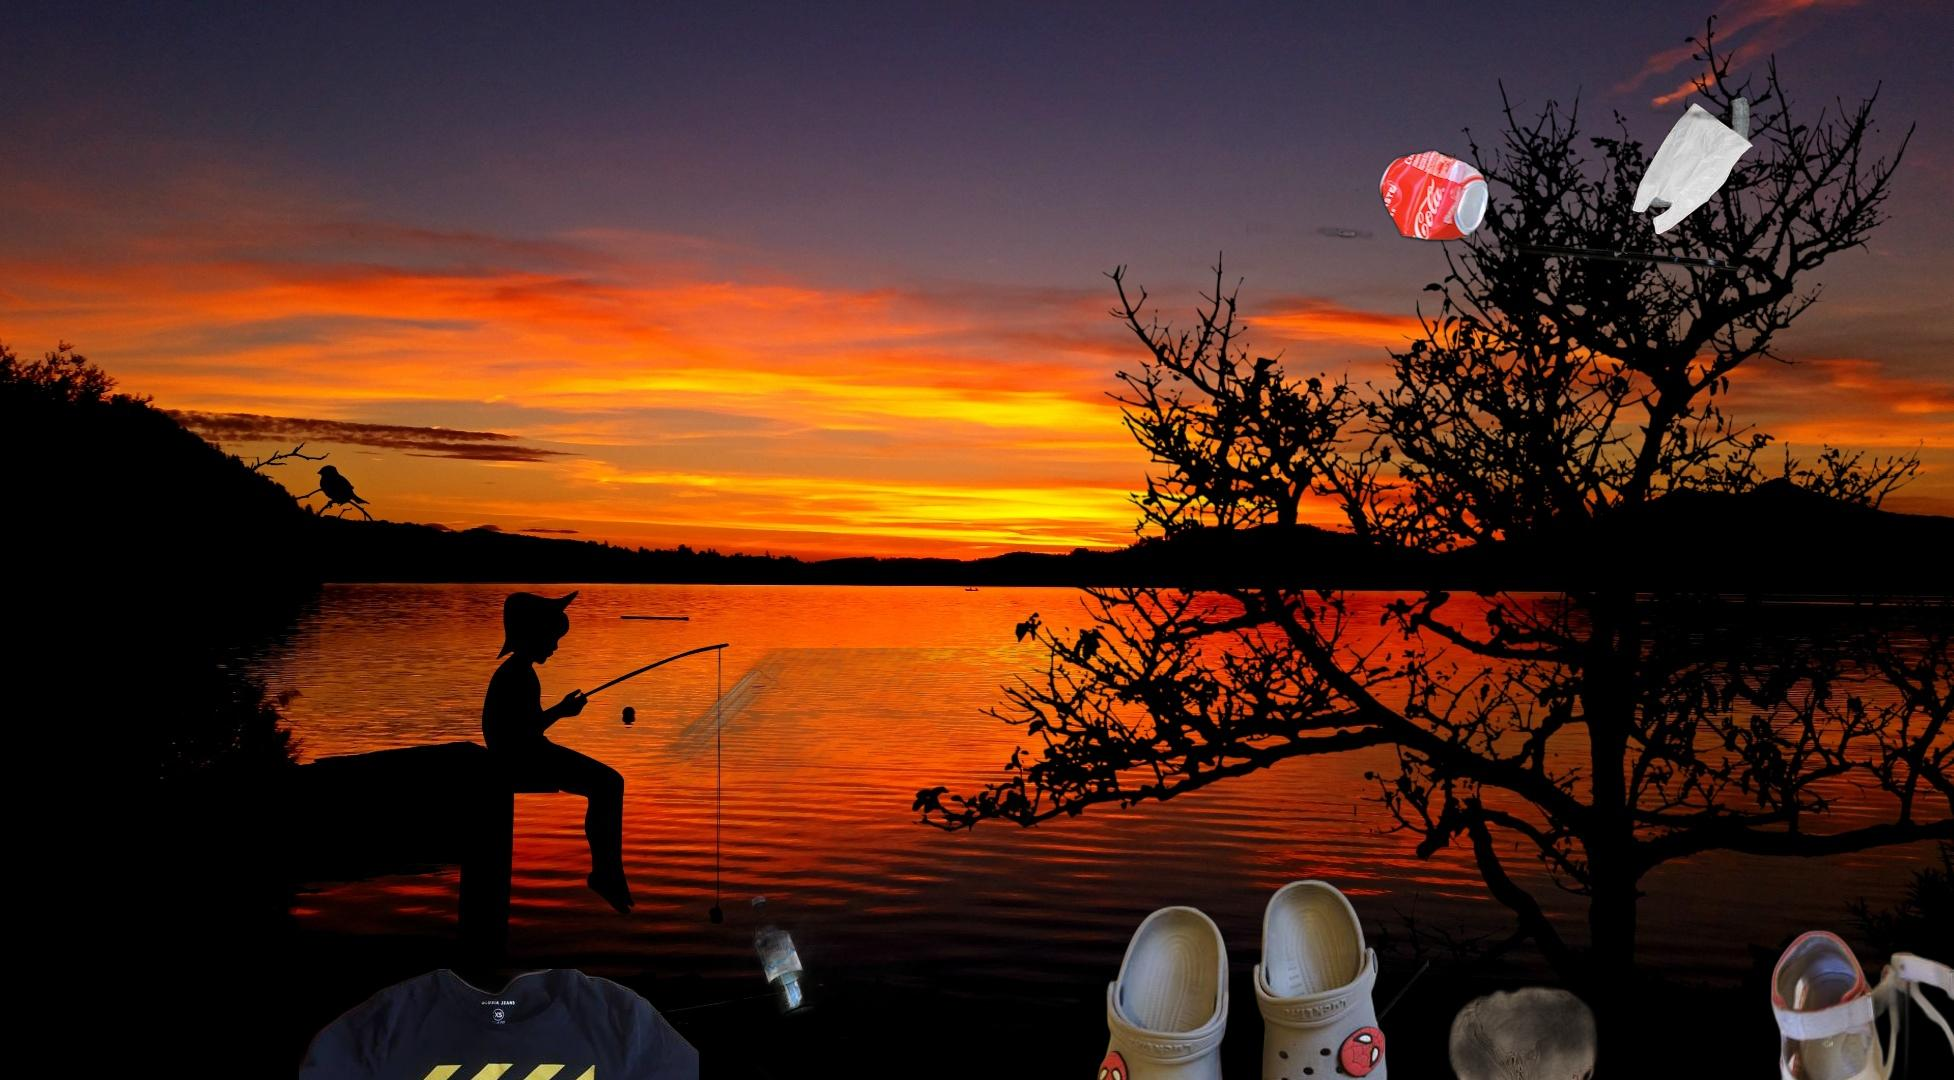clothes: (299, 970, 699, 1080), (1444, 979, 1622, 1080)
glass: (538, 648, 1050, 1080)
metal-cans: (1246, 102, 1759, 352)
plastic-bag: (1631, 94, 1757, 235)
shoes: (1093, 874, 1429, 1080), (1767, 896, 1954, 1080)
